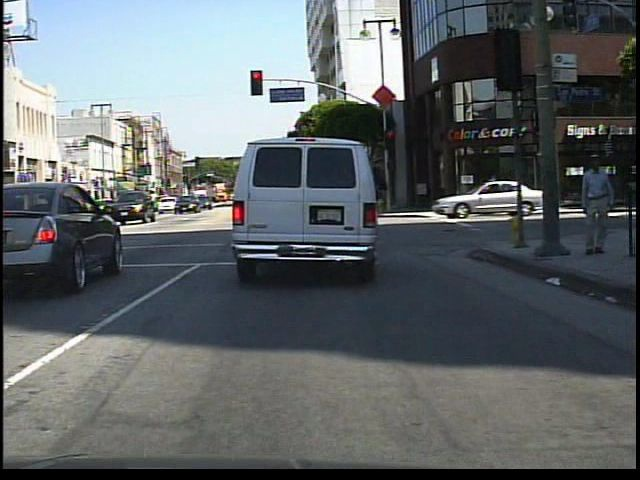person: (577, 150, 620, 259)
